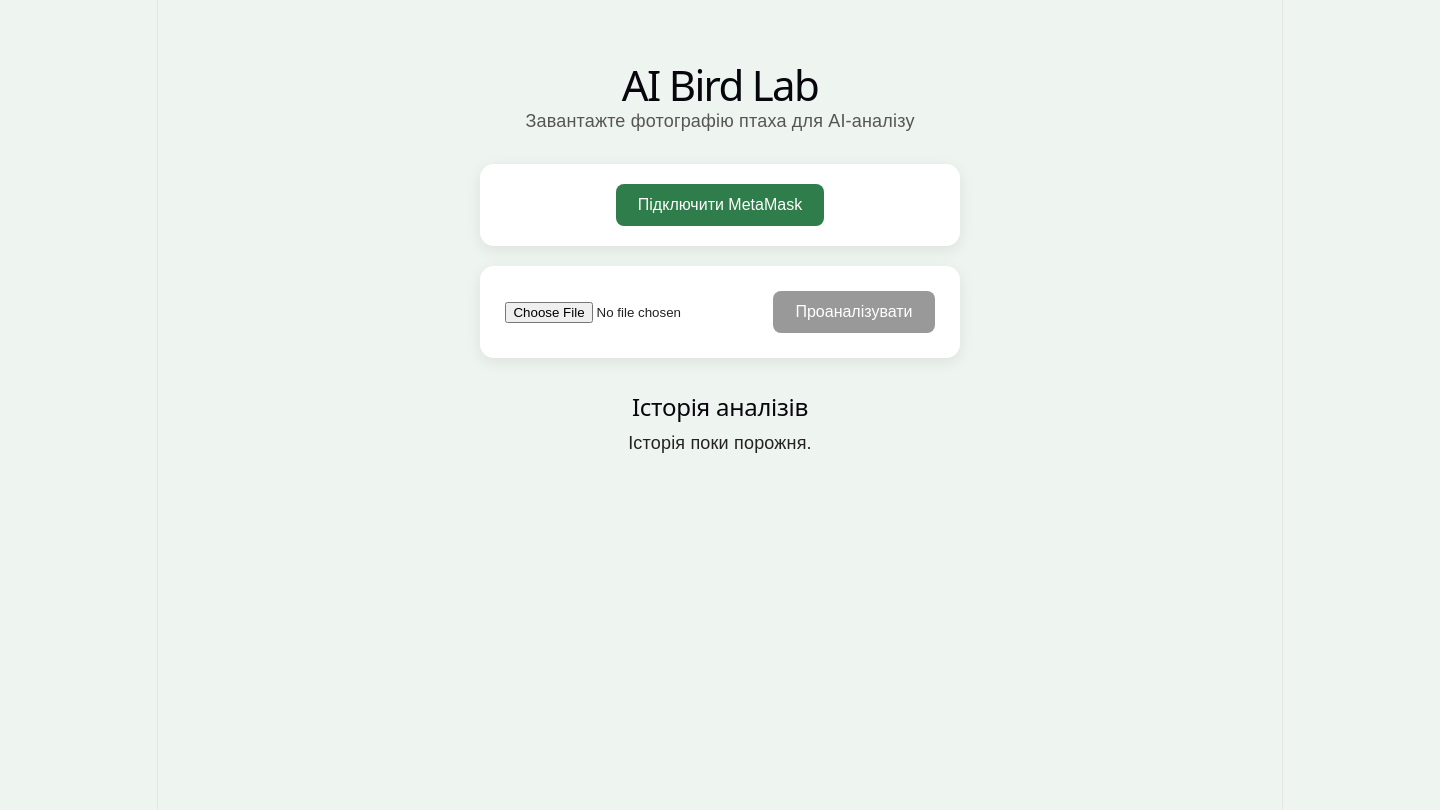
Test case: AI Bird Lab — Web Tests › Підключає зареєстрований гаманець
Click the button "Підключити MetaMask" at (720, 205), box [616,184,824,226]
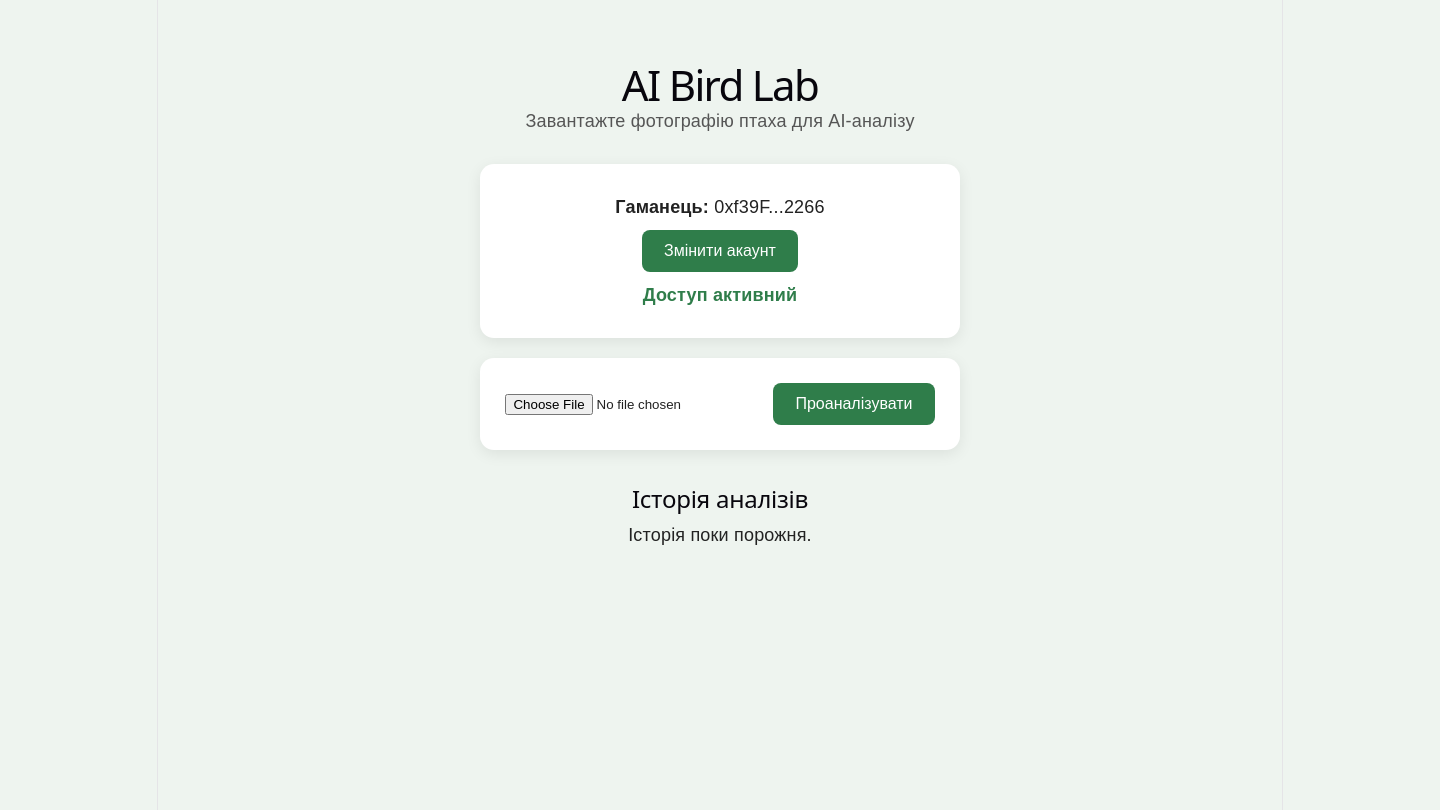
Expected: the text "Доступ активний" is shown, [643,285,797,305]
